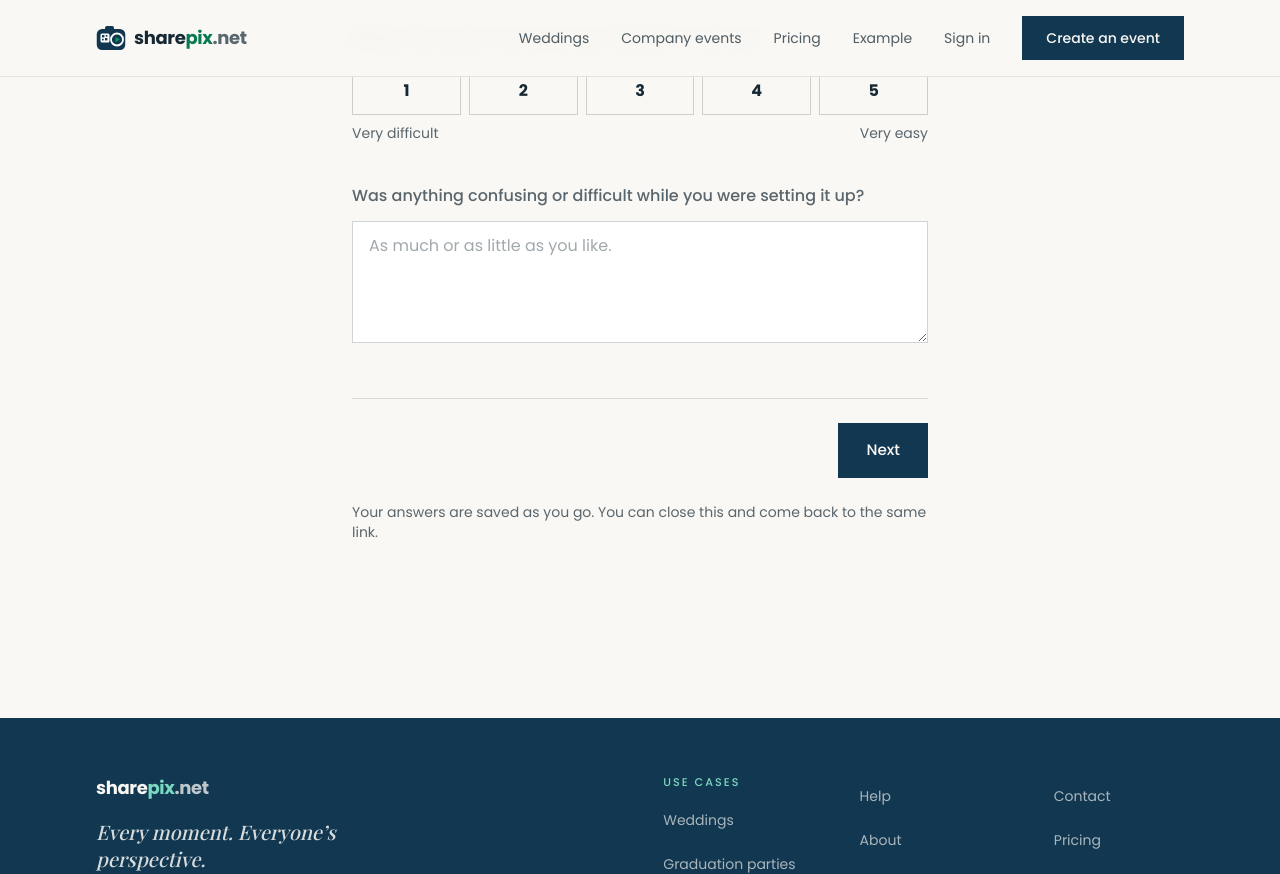
moving between steps › advances the progress indicator
The width and height of the screenshot is (1280, 874).
(page scrolled)
Click the button "Next" at (883, 450), box x1=838 y1=423 x2=928 y2=478
(page scrolled)
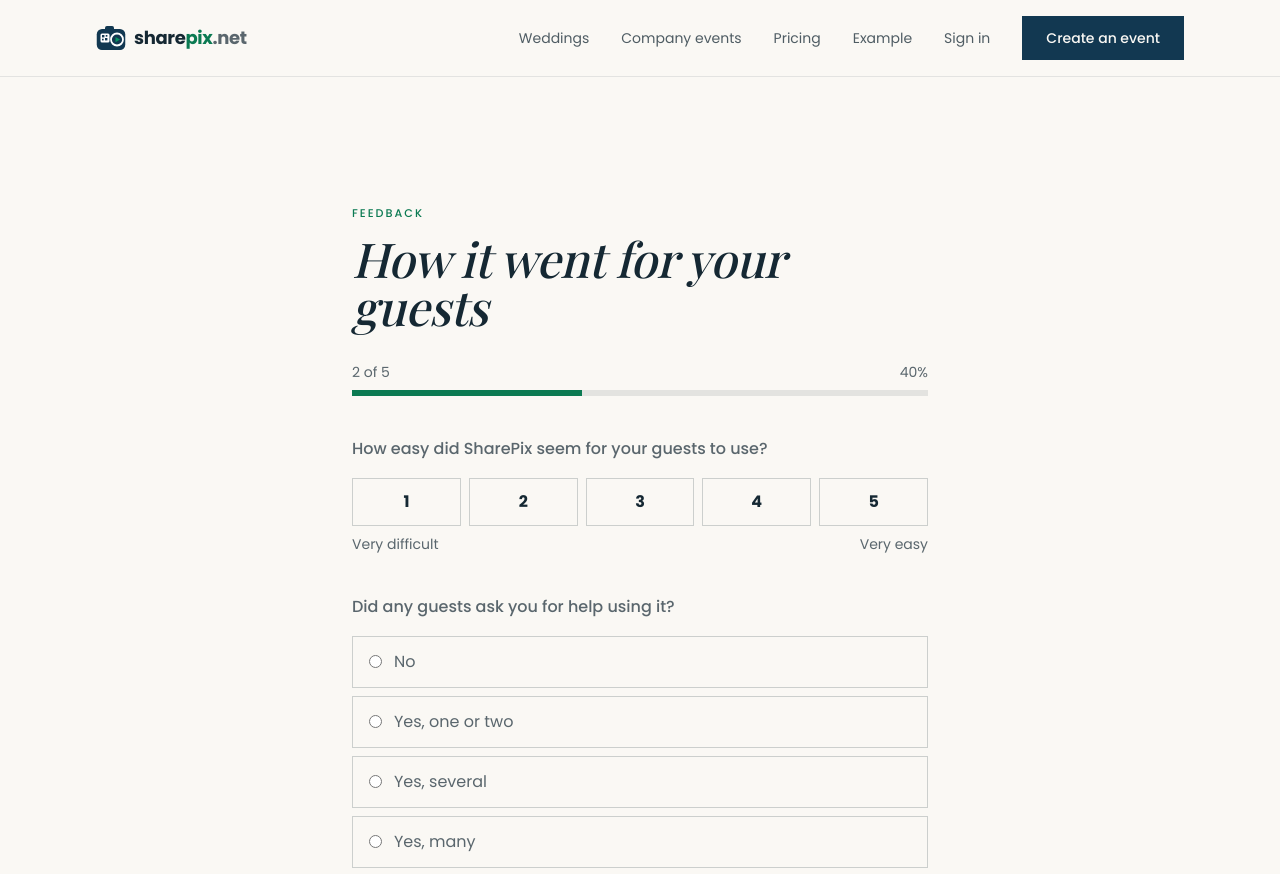
Expected: the text "2 of 5" is shown, x1=352 y1=362 x2=390 y2=382
